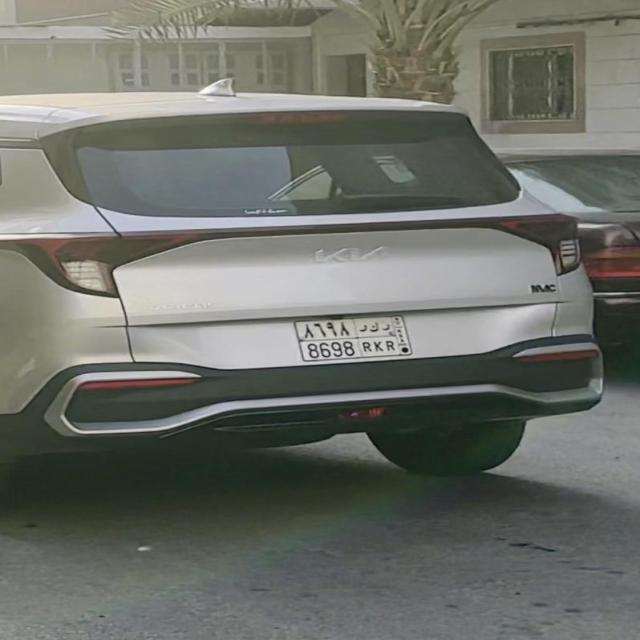Car-plate: (285, 306, 437, 368)
